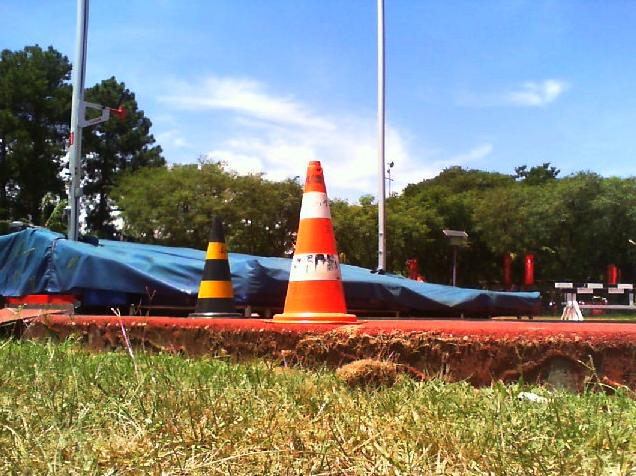0 cone: (261, 161, 368, 323), (187, 215, 249, 320)
